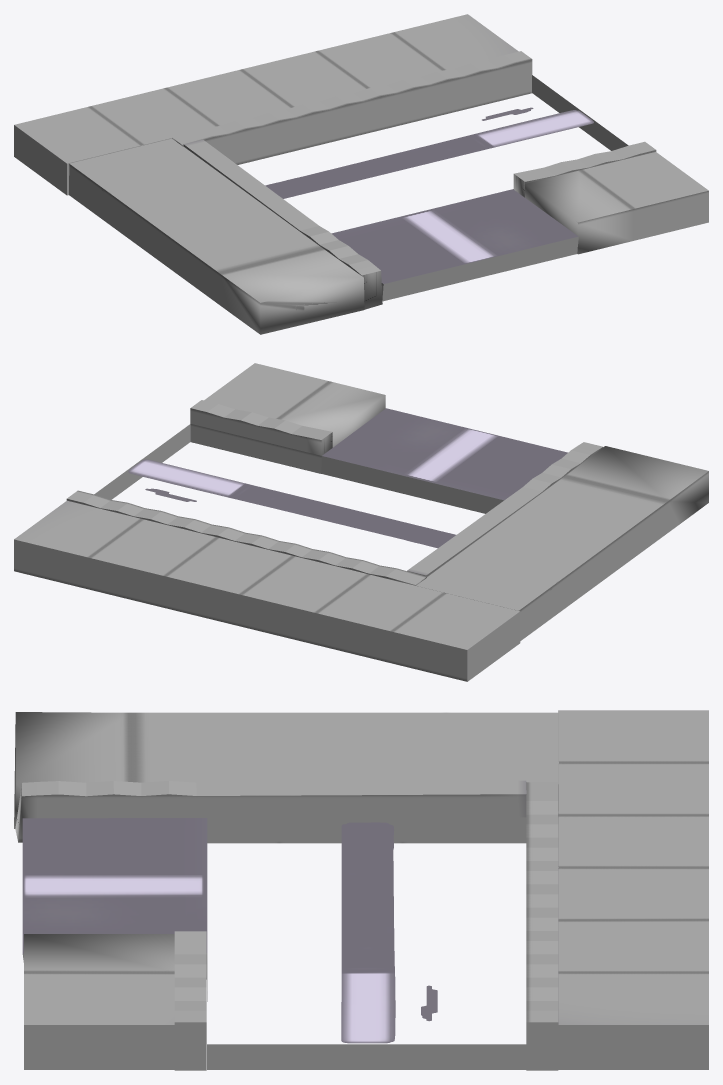
The model's file is RoadTurn.fbx.
3 renders of one model, top to bottom at view 1: azimuth 30°, elevation 25°; view 2: azimuth 150°, elevation 25°; view 3: azimuth 270°, elevation 25°, orthographic. The views are drawn at different scales.
Visible parts, largest first — view 1: Torn.001; view 2: Torn.001; view 3: Torn.001.
Part boxes in pixels (left/top/right/bottom): Torn.001: left=14, top=14, right=708, bottom=334; Torn.001: left=14, top=363, right=708, bottom=681; Torn.001: left=14, top=710, right=708, bottom=1070.
Size of the model in its own units: 1617 by 116 by 1509.
